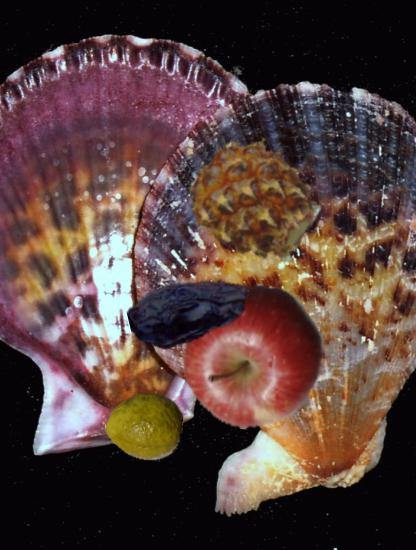Apple: (181, 284, 328, 431)
Dates: (128, 250, 253, 375)
Guava: (105, 387, 183, 465)
Pineapple: (190, 133, 320, 263)
